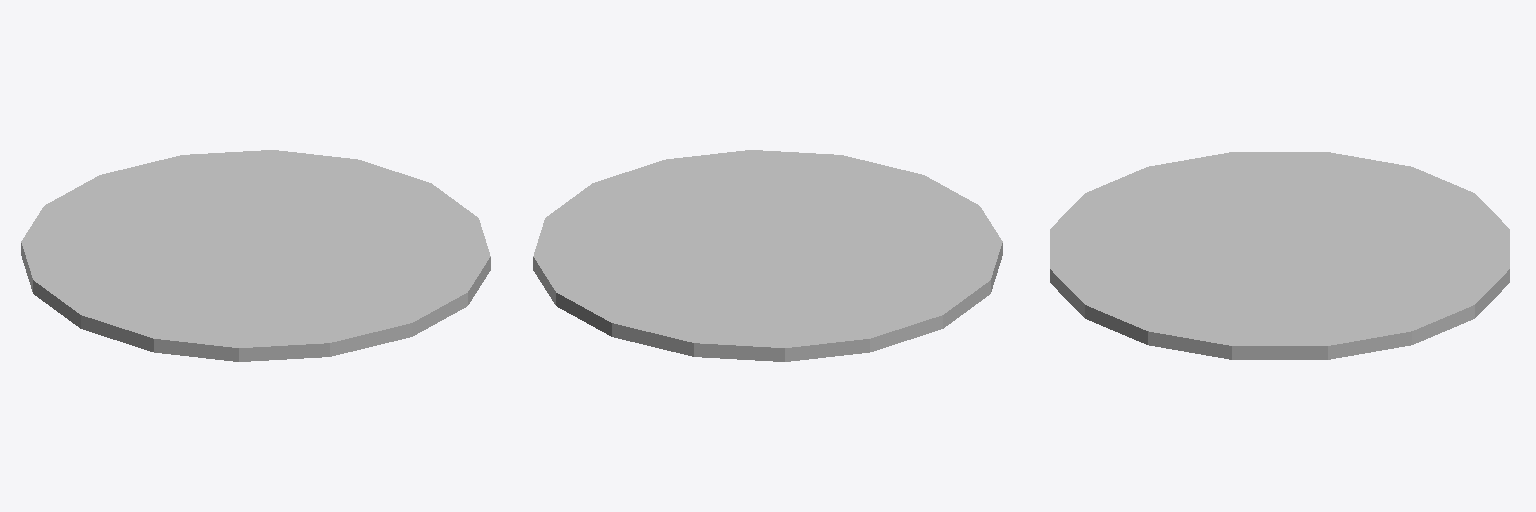
The model's file is lid.obj.
3 views of the same model, side by side, from view 1: azimuth 30°, elevation 25°; view 2: azimuth 150°, elevation 25°; view 3: azimuth 270°, elevation 25° (orthographic).
Visible parts, largest first — view 1: Cube; view 2: Cube; view 3: Cube.
Boxes of the visible parts, x1,y1,x2,y2 form: Cube: [21, 150, 490, 361]; Cube: [533, 150, 1002, 361]; Cube: [1050, 152, 1509, 359].
Bounding box in the file's own units: 2 × 0.0667 × 2.